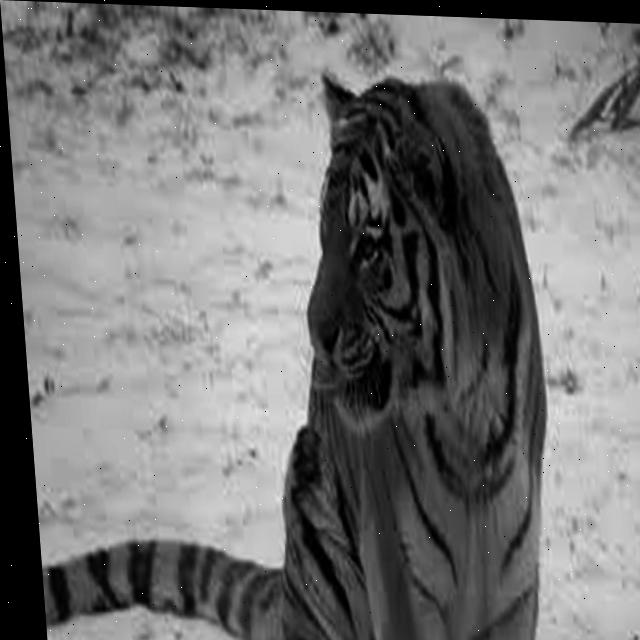Tiger: (4, 58, 567, 640)
